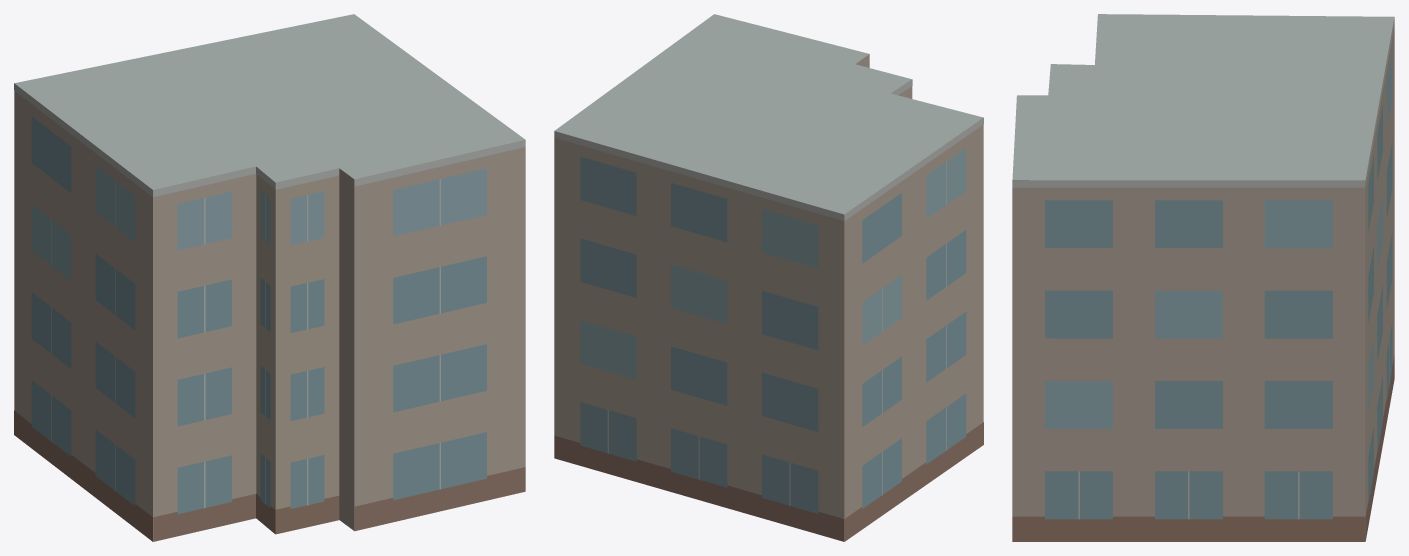
The model's file is survey-upis-32859467.glb.
3 renders of one model, left to right at view 1: azimuth 30°, elevation 25°; view 2: azimuth 150°, elevation 25°; view 3: azimuth 270°, elevation 25°, orthographic. The views are drawn at different scales.
Visible parts, largest first — view 1: survey-upis-32859467.tmp; view 2: survey-upis-32859467.tmp; view 3: survey-upis-32859467.tmp.
Part boxes in pixels (left/top/right/bottom): survey-upis-32859467.tmp: left=14, top=14, right=525, bottom=541; survey-upis-32859467.tmp: left=554, top=14, right=983, bottom=541; survey-upis-32859467.tmp: left=1012, top=14, right=1394, bottom=541.
Bounding box in the file's own units: 11.76 × 11.92 × 11.43.
